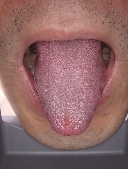tongue: (31, 42, 107, 137)
